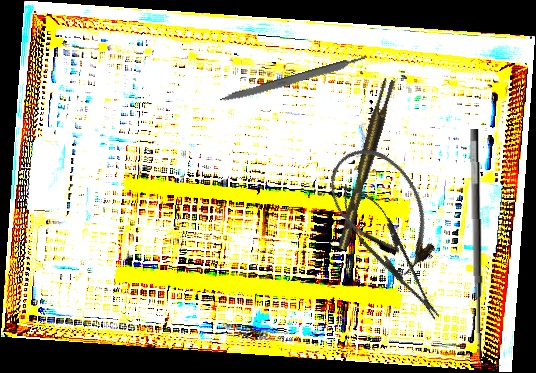Cannula: (314, 133, 454, 286)
Hook Surgical: (466, 128, 503, 367)
Needle Holder: (327, 174, 453, 330)
Scalpel Handle: (218, 54, 369, 106)
Tissue Forceps: (329, 77, 401, 251)
